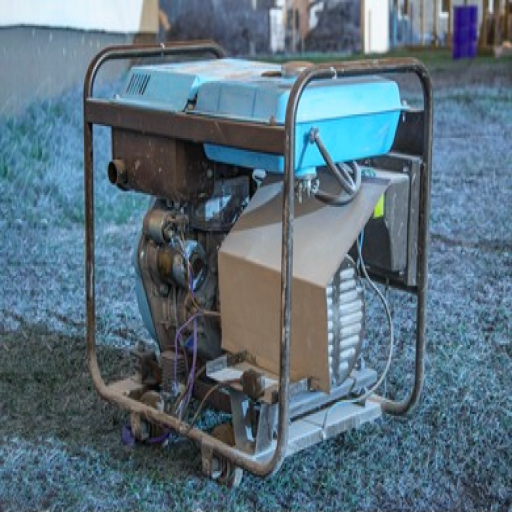portable_generator: (83, 40, 434, 474)
